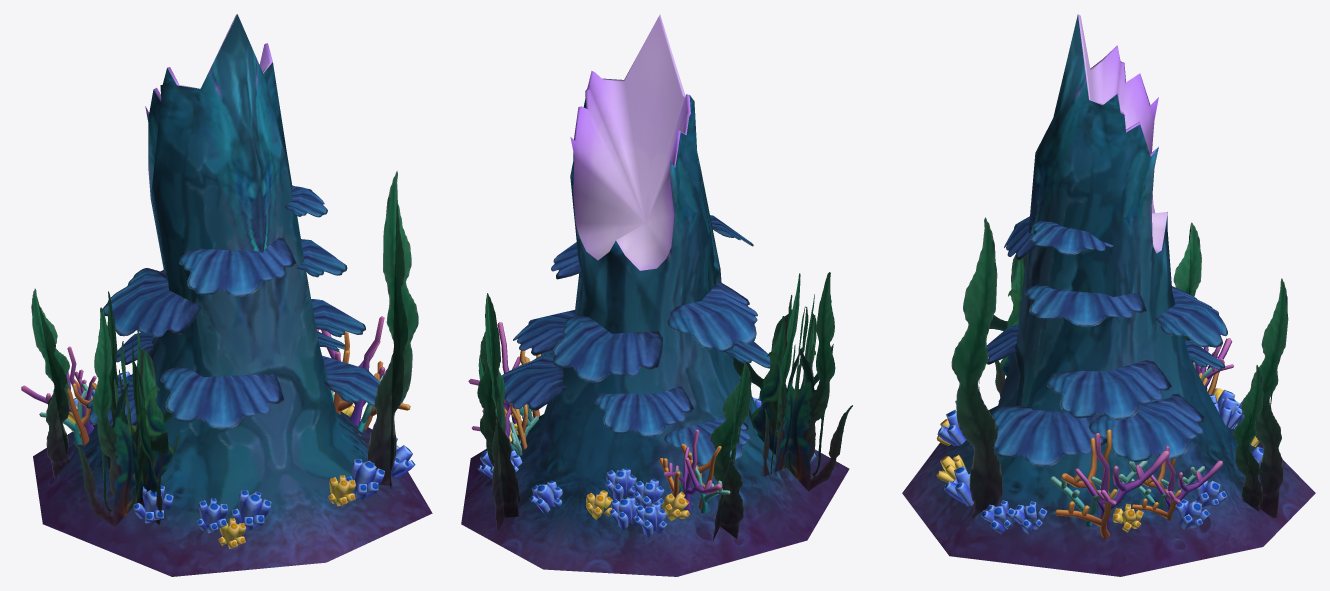
Rendered from Battle05_Stone_05.FBX.
The picture shows the model from 3 angles, left to right: view 1: azimuth 30°, elevation 25°; view 2: azimuth 150°, elevation 25°; view 3: azimuth 270°, elevation 25°; orthographic projection. The views are drawn at different scales.
Visible parts, largest first — view 1: Battle05_Stone_05; view 2: Battle05_Stone_05; view 3: Battle05_Stone_05.
Boxes of the visible parts, left/top/right/bottom form: Battle05_Stone_05: left=21, top=14, right=432, bottom=576; Battle05_Stone_05: left=461, top=14, right=852, bottom=576; Battle05_Stone_05: left=902, top=14, right=1315, bottom=576.
Size of the model in its own units: 15.25 by 19.08 by 14.58.
